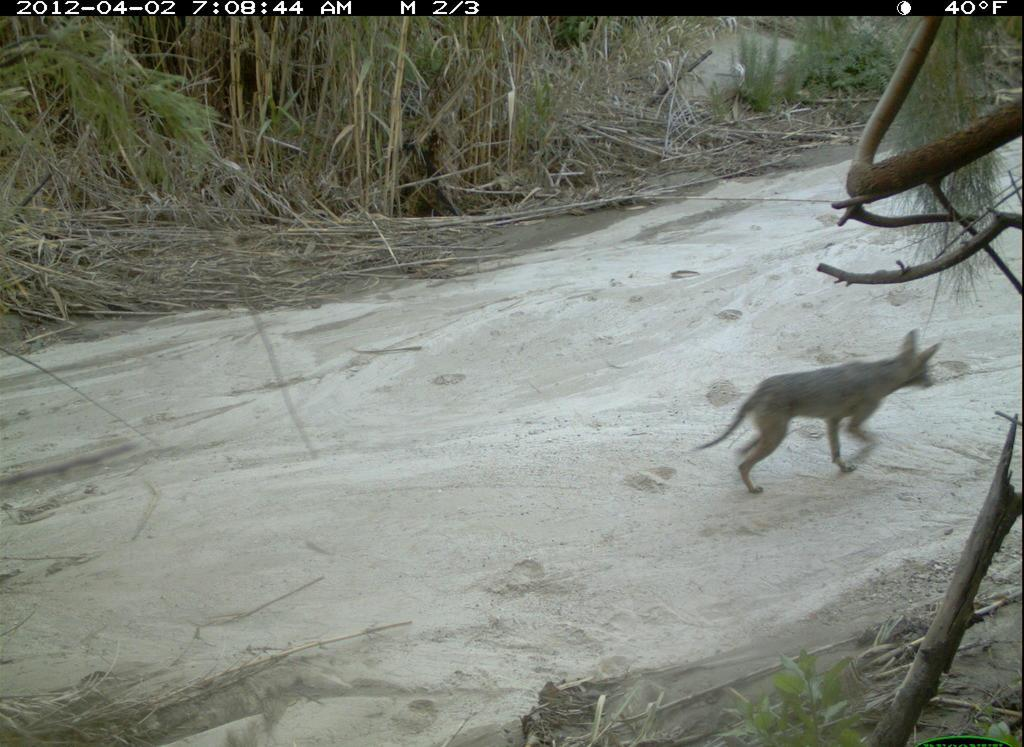coyote: (692, 327, 944, 501)
